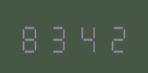eight: (18, 20, 45, 53)
four: (74, 20, 101, 53)
three: (46, 20, 73, 53)
two: (102, 20, 129, 53)
